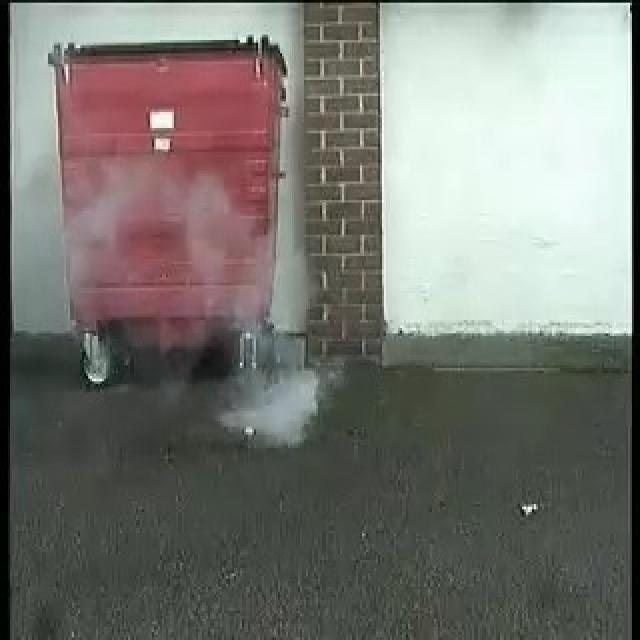smoke: (173, 206, 328, 446)
